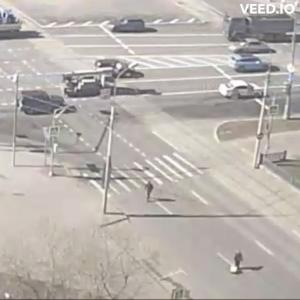car: (59, 73, 117, 98), (22, 93, 71, 121), (220, 80, 264, 101), (107, 17, 158, 35), (233, 41, 278, 59), (231, 55, 269, 74), (95, 57, 136, 74), (1, 12, 26, 39)
